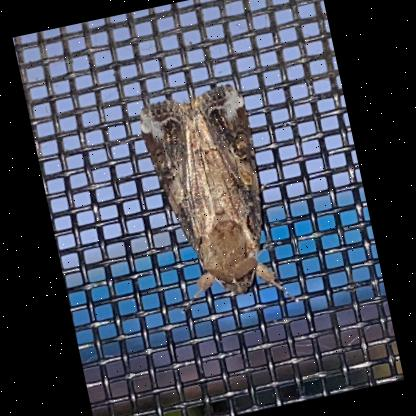Fall Armyworm Moth: (131, 74, 304, 330)
